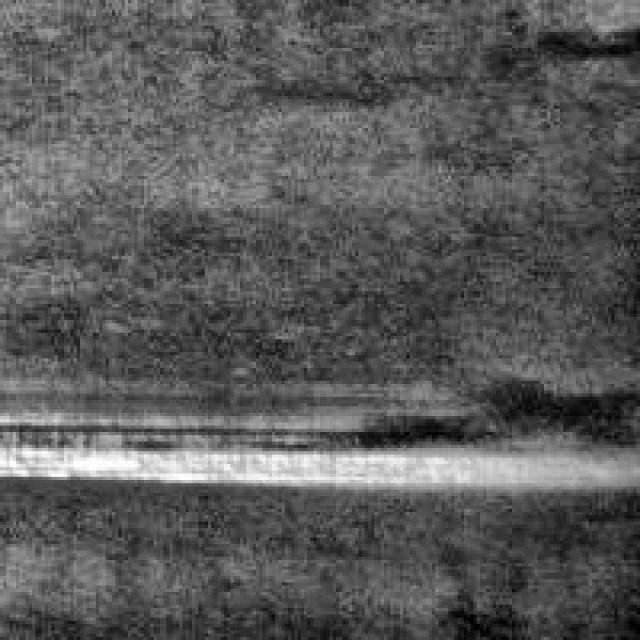Inclusion: (0, 378, 563, 483)
